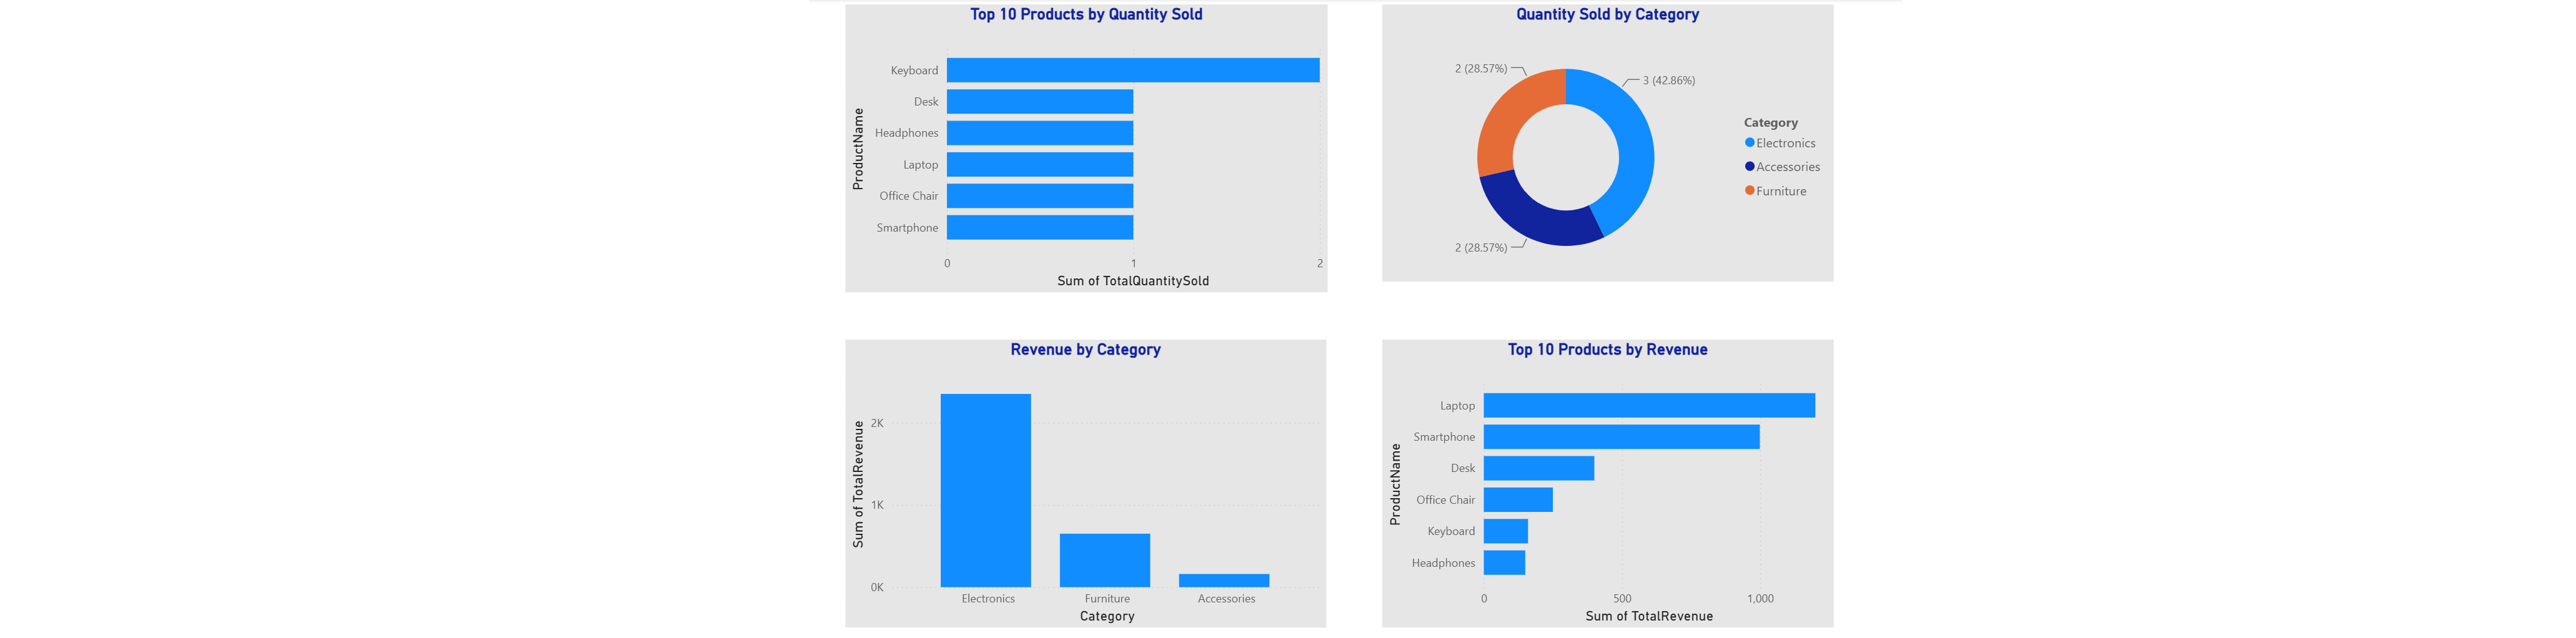

This screenshot's page, from the dashboard's own definition file:
{"tool":"powerbi","page":{"name":"Product Performance","canvas":[1280,720],"ordinal":4},"visuals":[{"type":"barChart","title":"Top 10 Products by Quantity Sold","fields":{"Category":["ecommerce vw_ProductPerformance.ProductName"],"Y":["Sum(ecommerce vw_ProductPerformance.TotalQuantitySold)"]},"box":[44.1,5.8,510.3,304.9],"z":0},{"type":"columnChart","title":"Revenue by Category","fields":{"Category":["ecommerce vw_ProductPerformance.Category"],"Y":["Sum(ecommerce vw_ProductPerformance.TotalRevenue)"]},"box":[44.1,360.6,508.7,304.9],"z":1000},{"type":"donutChart","title":"Quantity Sold by Category","fields":{"Category":["ecommerce vw_ProductPerformance.Category"],"Y":["Sum(ecommerce vw_ProductPerformance.TotalQuantitySold)"]},"box":[611.9,5.8,477.6,293.5],"z":2000},{"type":"barChart","title":"Top 10 Products by Revenue","fields":{"Category":["ecommerce vw_ProductPerformance.ProductName"],"Y":["Sum(ecommerce vw_ProductPerformance.TotalRevenue)"]},"box":[611.9,360.6,477.6,305],"z":3000}]}

Visuals, with their boxes on the page's 1280x720 design canvas (x1, y1, x2, y2). These are canvas units, not pixel positions in the 2576x638 screenshot, which may show the page scaled, cropped or inside an application window:
"Top 10 Products by Quantity Sold" barChart: {"x1": 44, "y1": 6, "x2": 554, "y2": 311}
"Revenue by Category" columnChart: {"x1": 44, "y1": 361, "x2": 553, "y2": 666}
"Quantity Sold by Category" donutChart: {"x1": 612, "y1": 6, "x2": 1090, "y2": 299}
"Top 10 Products by Revenue" barChart: {"x1": 612, "y1": 361, "x2": 1090, "y2": 666}
